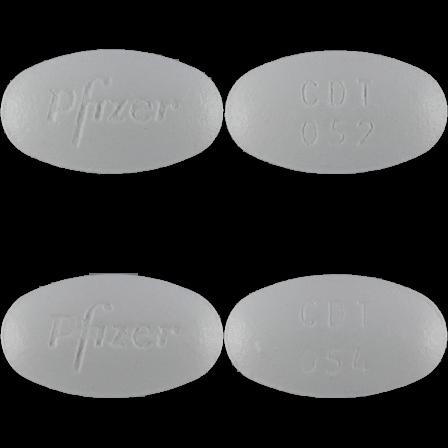59762-6721: (0, 0, 224, 224)
